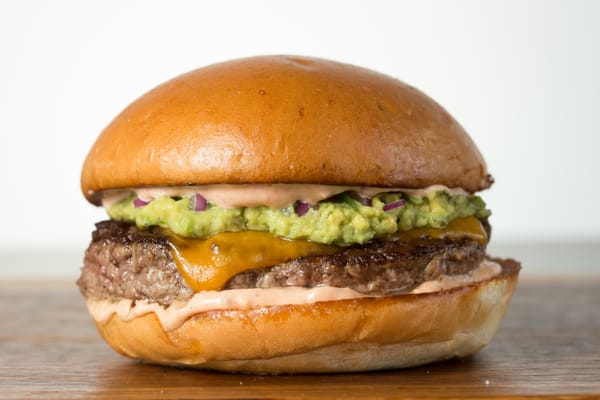soup: (73, 53, 505, 364)
